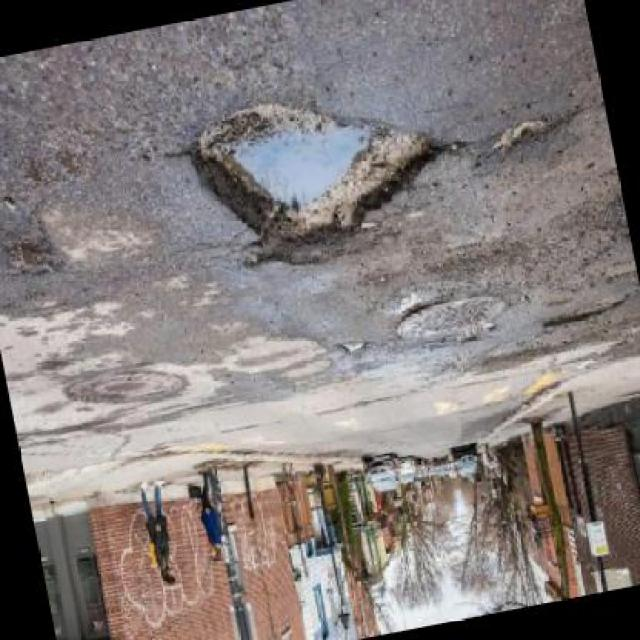pothole1: (178, 68, 454, 289), (535, 286, 634, 336), (0, 222, 68, 289), (486, 113, 554, 161), (334, 335, 372, 362)
